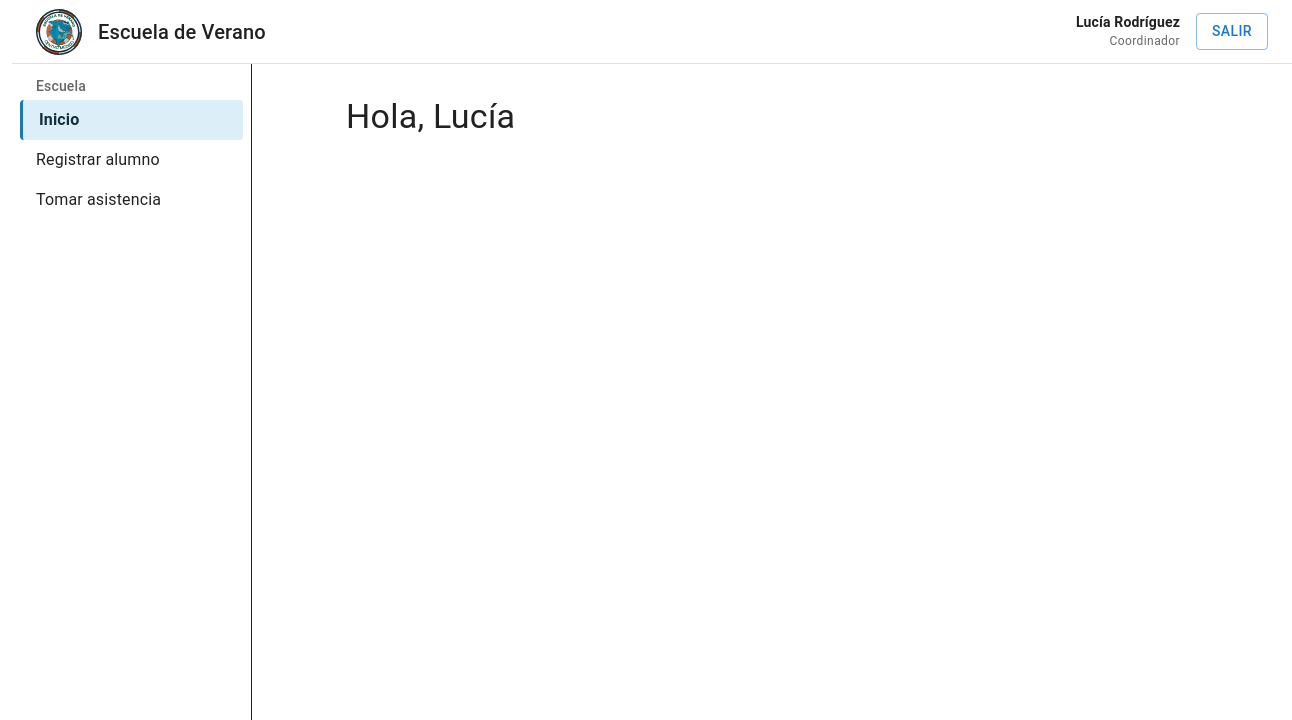
it: Inicio de la zona protegida › Ir a registrar un alumno
The width and height of the screenshot is (1292, 720).
Expected: the text "Lucía Rodríguez" is shown, [1076,12,1180,32]
Click the link "Registrar alumno": point(98, 160) [36,150,160,169]
(page scrolled)
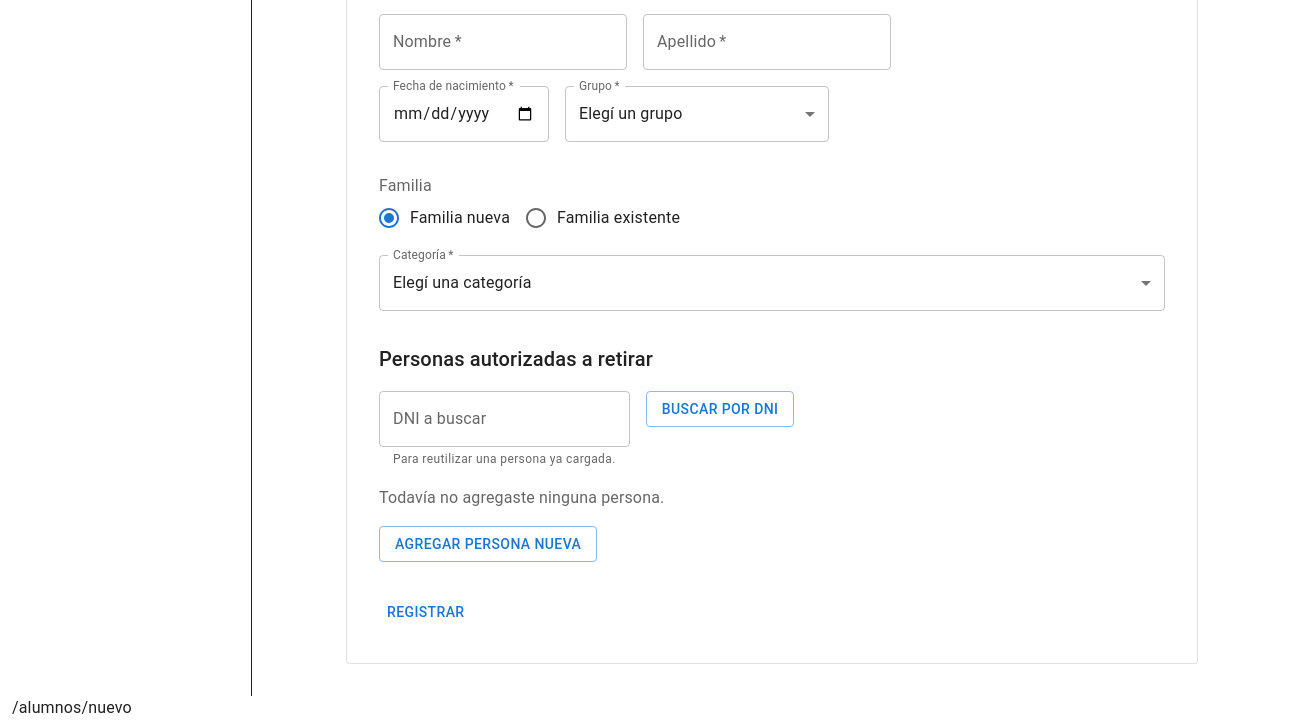
Expected: the text named "dirección actual" reads "/alumnos/nuevo", [12,698,132,717]
